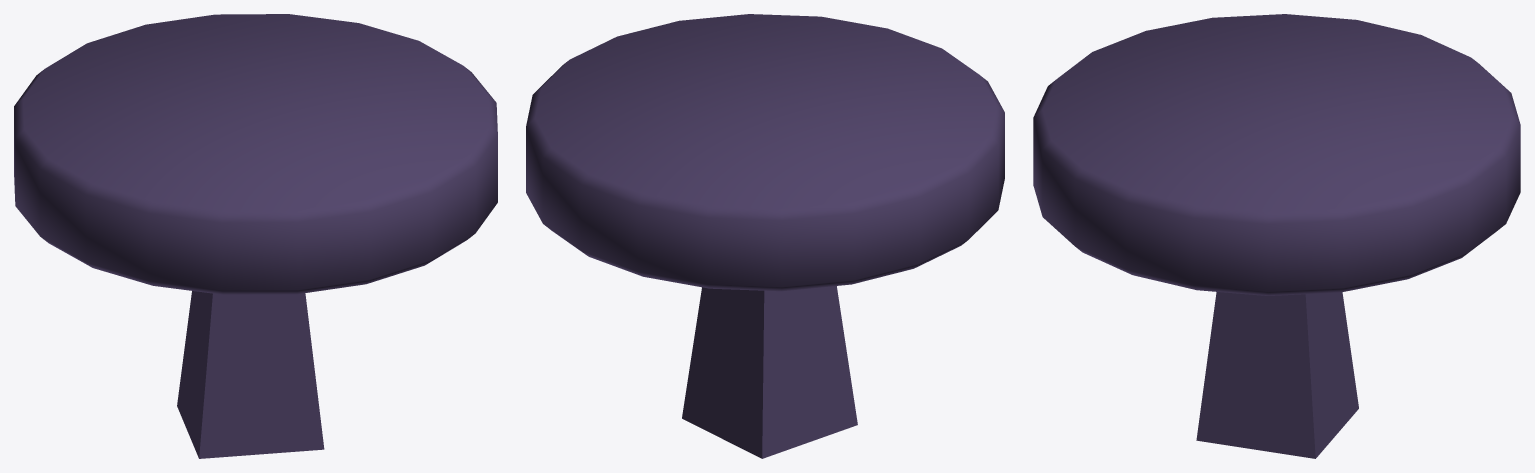
File: Tabouret.fbx
3 views of the same model, side by side, from view 1: azimuth 30°, elevation 25°; view 2: azimuth 150°, elevation 25°; view 3: azimuth 270°, elevation 25° (orthographic).
Visible parts, largest first — view 1: Ttabouret_LOD0; view 2: Ttabouret_LOD0; view 3: Ttabouret_LOD0.
Boxes of the visible parts, bbox=[...] form: Ttabouret_LOD0: bbox=[14, 14, 497, 458]; Ttabouret_LOD0: bbox=[526, 14, 1004, 458]; Ttabouret_LOD0: bbox=[1033, 14, 1520, 458].
Size of what is drawn, in the model's own units: 93.92 by 66.75 by 93.92.
